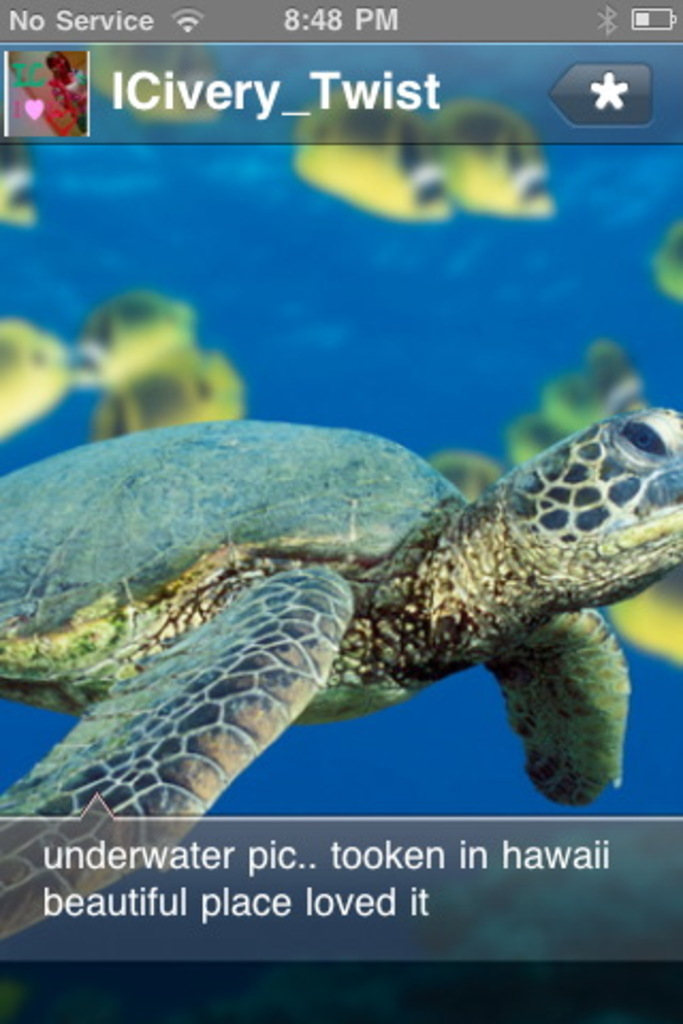Sea turtles: (0, 401, 680, 940)
